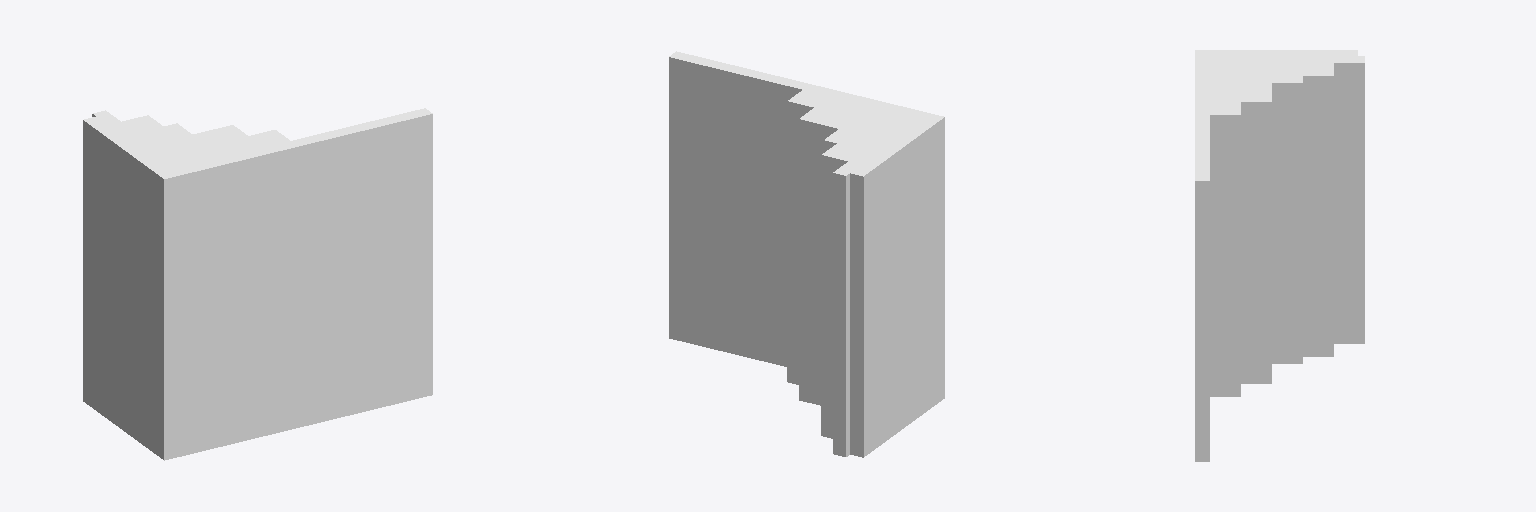
Rendered from MushroomDaddyInterior_01-9.obj.
3 views of the same model, side by side, from view 1: azimuth 30°, elevation 25°; view 2: azimuth 150°, elevation 25°; view 3: azimuth 270°, elevation 25° (orthographic).
Parts seen in each view (by area): view 1: MushroomDaddyInterior_01-9; view 2: MushroomDaddyInterior_01-9; view 3: MushroomDaddyInterior_01-9.
Boxes of the visible parts, x1,y1,x2,y2 form: MushroomDaddyInterior_01-9: [83, 108, 432, 460]; MushroomDaddyInterior_01-9: [669, 51, 944, 457]; MushroomDaddyInterior_01-9: [1195, 50, 1364, 461].
Size of the model in its own units: 40 by 40 by 22.